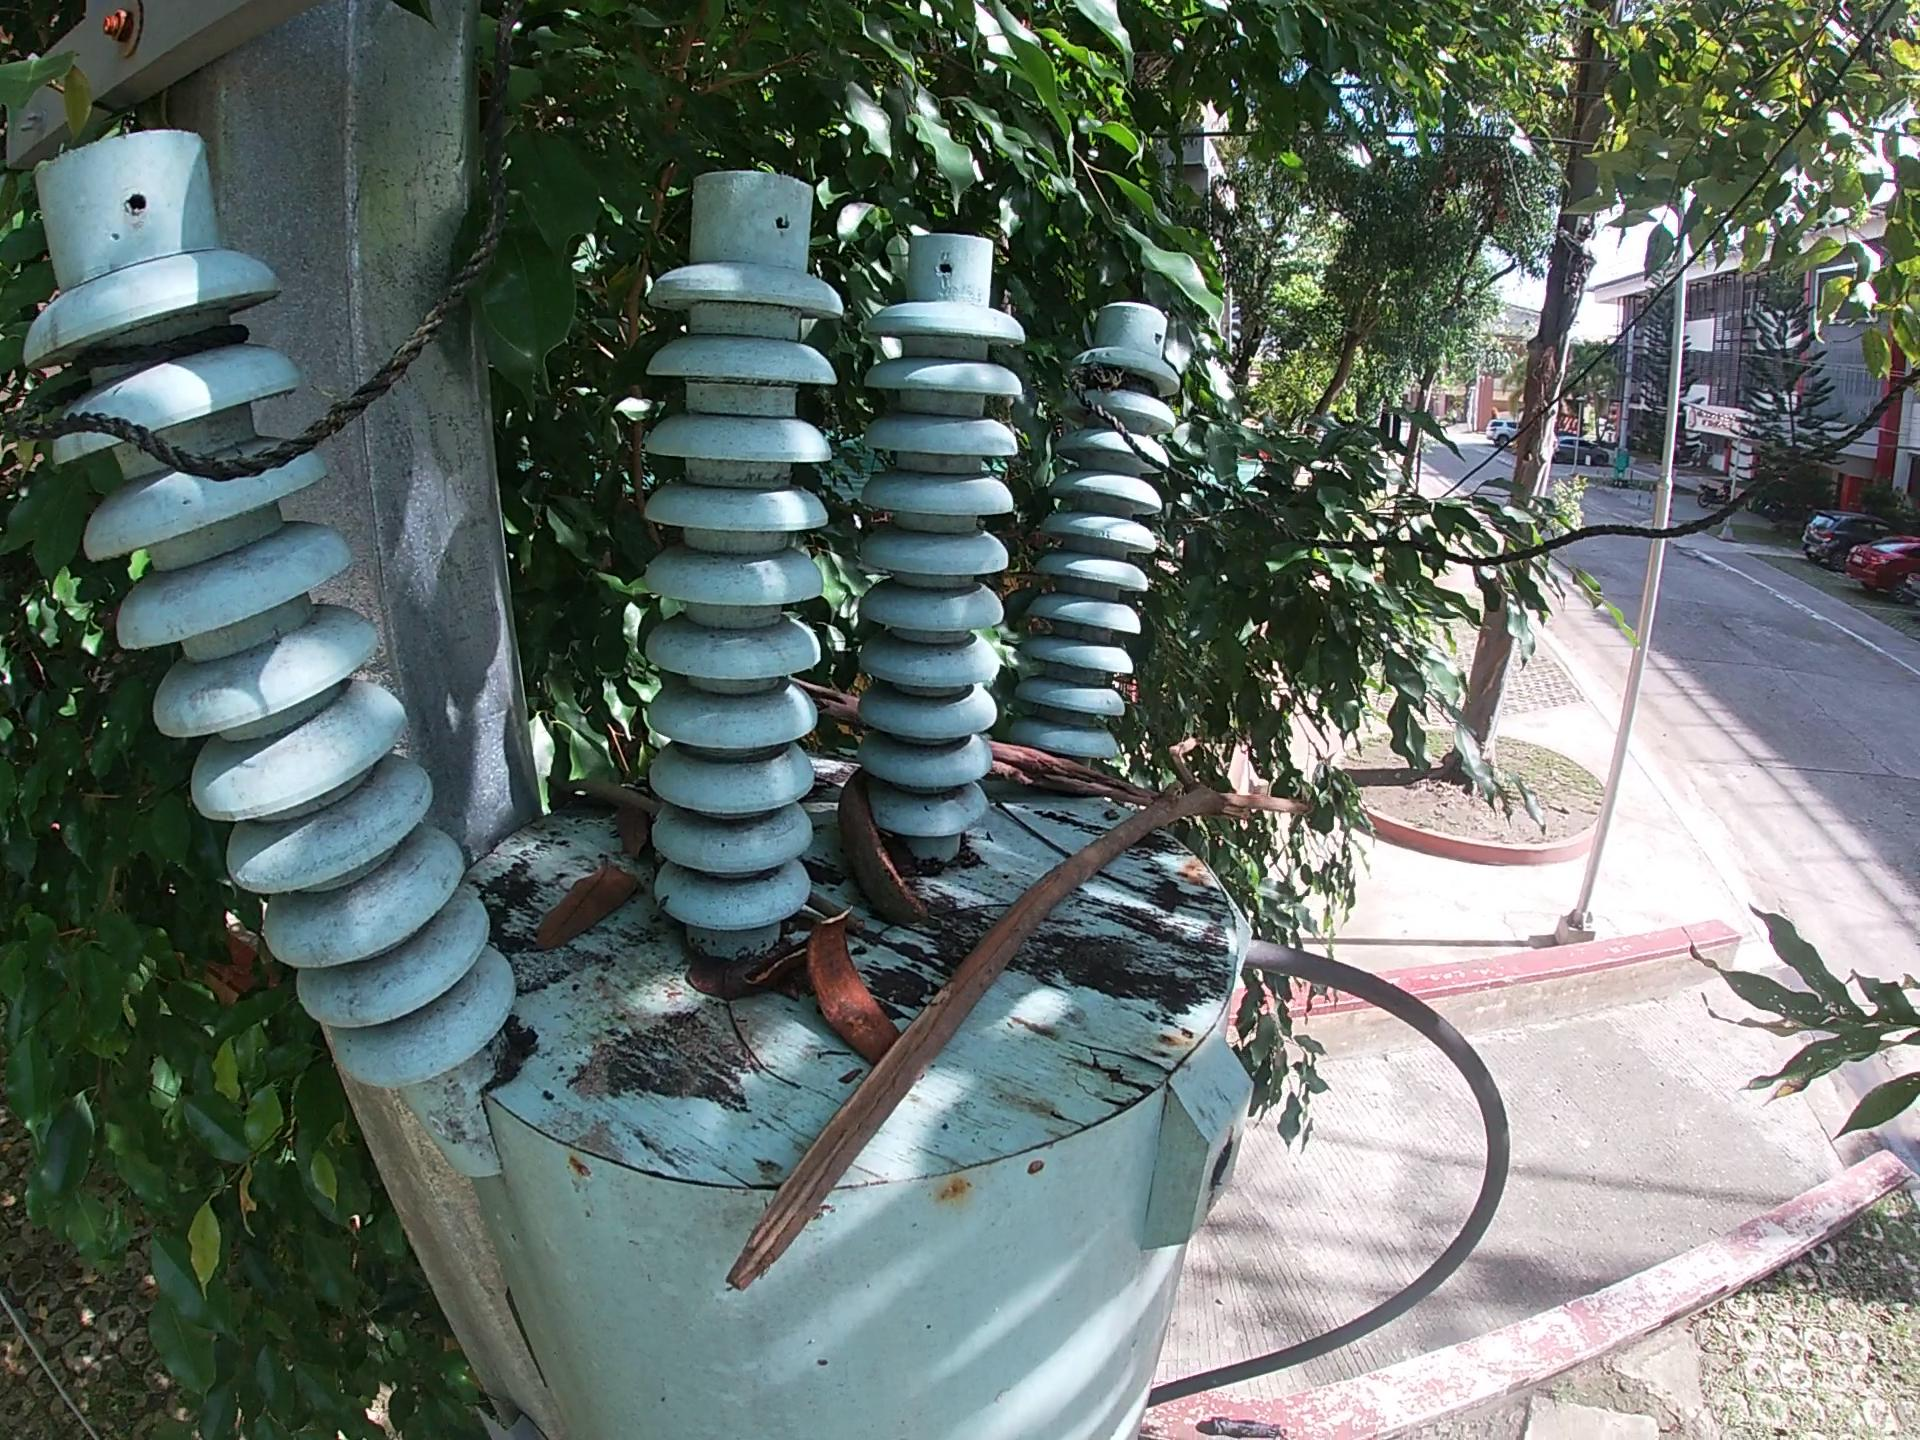leaf: (526, 853, 644, 954), (680, 948, 765, 1001), (612, 802, 658, 865)
mahogany fruit: (800, 905, 906, 1072), (835, 765, 937, 929)
tree branch: (720, 732, 1324, 1305), (783, 672, 1161, 809), (541, 771, 662, 814), (801, 894, 869, 938)
